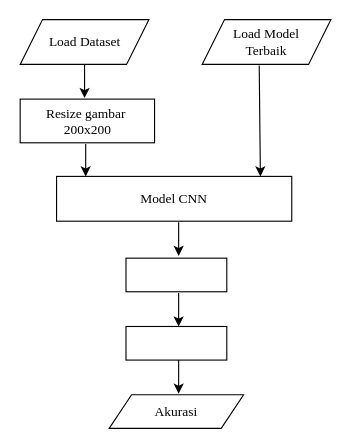
This 351x448 diagram has some shape labels left out. Here are the shapes that lost their labels. From the top down, the centre of each, then its label:
the point at 176,274: Testing
the point at 176,342: Prediksi
